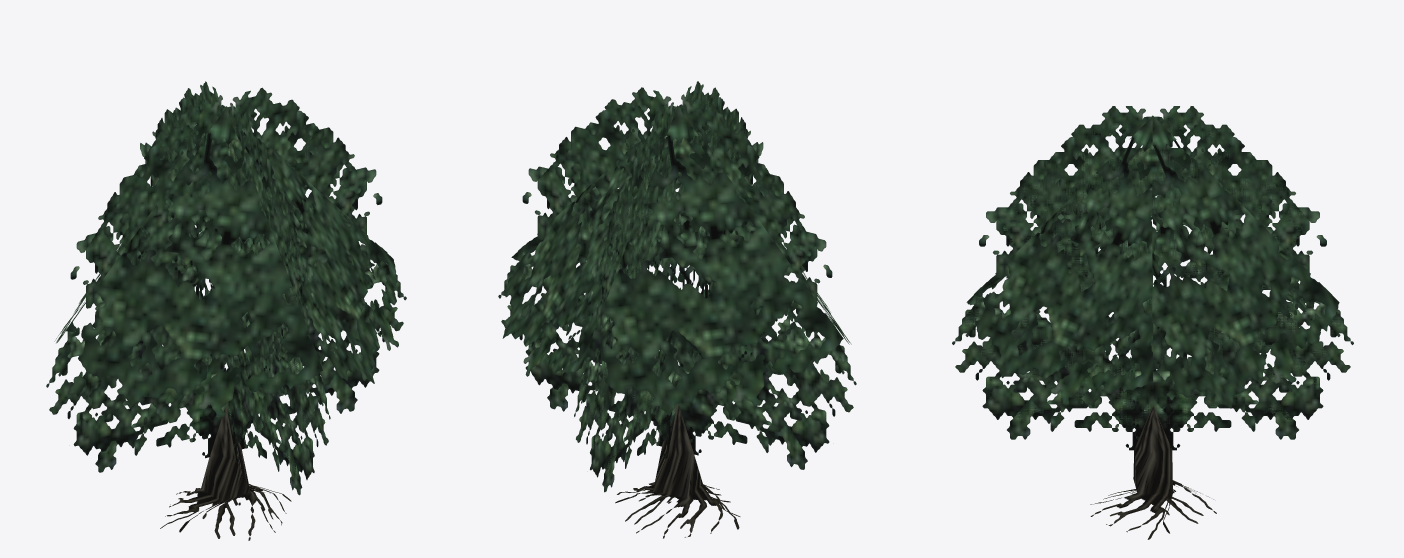
File: oak2.glb
The picture shows the model from 3 angles, left to right: view 1: azimuth 30°, elevation 25°; view 2: azimuth 150°, elevation 25°; view 3: azimuth 270°, elevation 25°; orthographic projection. The views are drawn at different scales.
Visible parts, largest first — view 1: Box02; view 2: Box02; view 3: Box02.
Boxes of the visible parts, left/top/right/bottom form: Box02: left=46, top=81, right=406, bottom=540; Box02: left=498, top=81, right=856, bottom=538; Box02: left=952, top=106, right=1353, bottom=539.
Size of the model in its own units: 12.87 by 12.13 by 12.87.
1 material, 1 textured.
